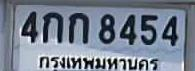4: (119, 13, 137, 46), (161, 15, 178, 47), (21, 10, 37, 42)
5: (140, 14, 158, 46)
8: (98, 13, 116, 44)
A01: (42, 11, 63, 44), (68, 12, 89, 45)
BKK: (36, 53, 162, 71)
